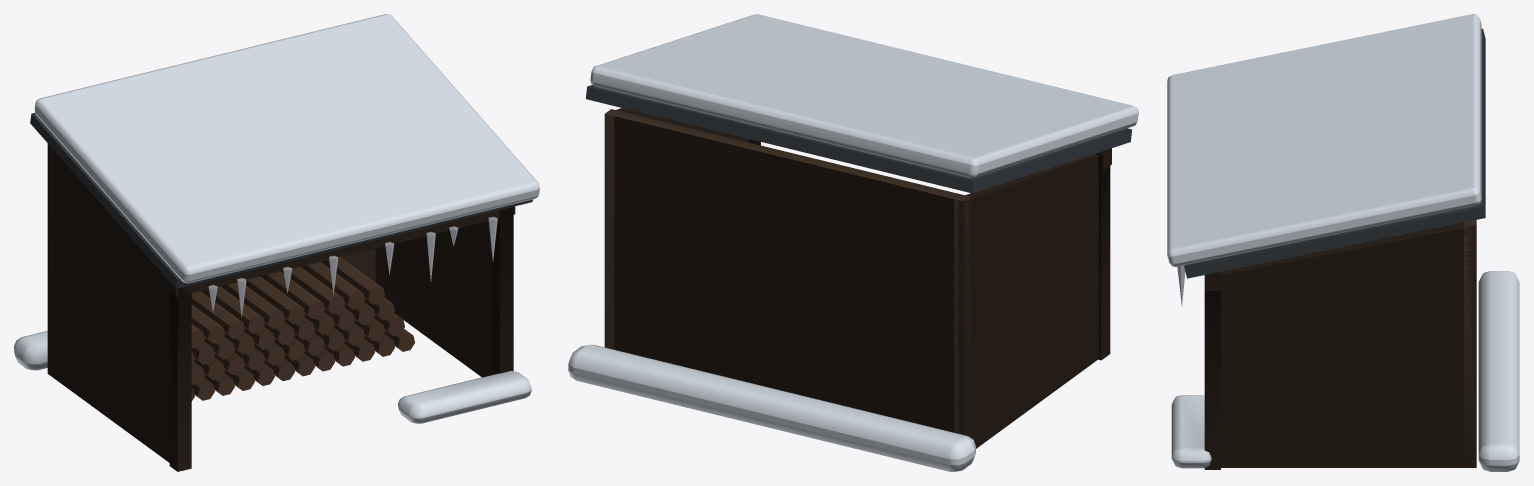
Rendered from shed_lean_to.glb.
The picture shows the model from 3 angles, left to right: view 1: azimuth 30°, elevation 25°; view 2: azimuth 150°, elevation 25°; view 3: azimuth 270°, elevation 25°; orthographic projection. The views are drawn at different scales.
Parts seen in each view (by area): view 1: ShedLeanTo; view 2: ShedLeanTo; view 3: ShedLeanTo.
Boxes of the visible parts, x1,y1,x2,y2 form: ShedLeanTo: (14,14,539,471); ShedLeanTo: (568,14,1138,471); ShedLeanTo: (1167,14,1519,471).
Bounding box in the file's own units: 4.2 × 3.05 × 3.42.
